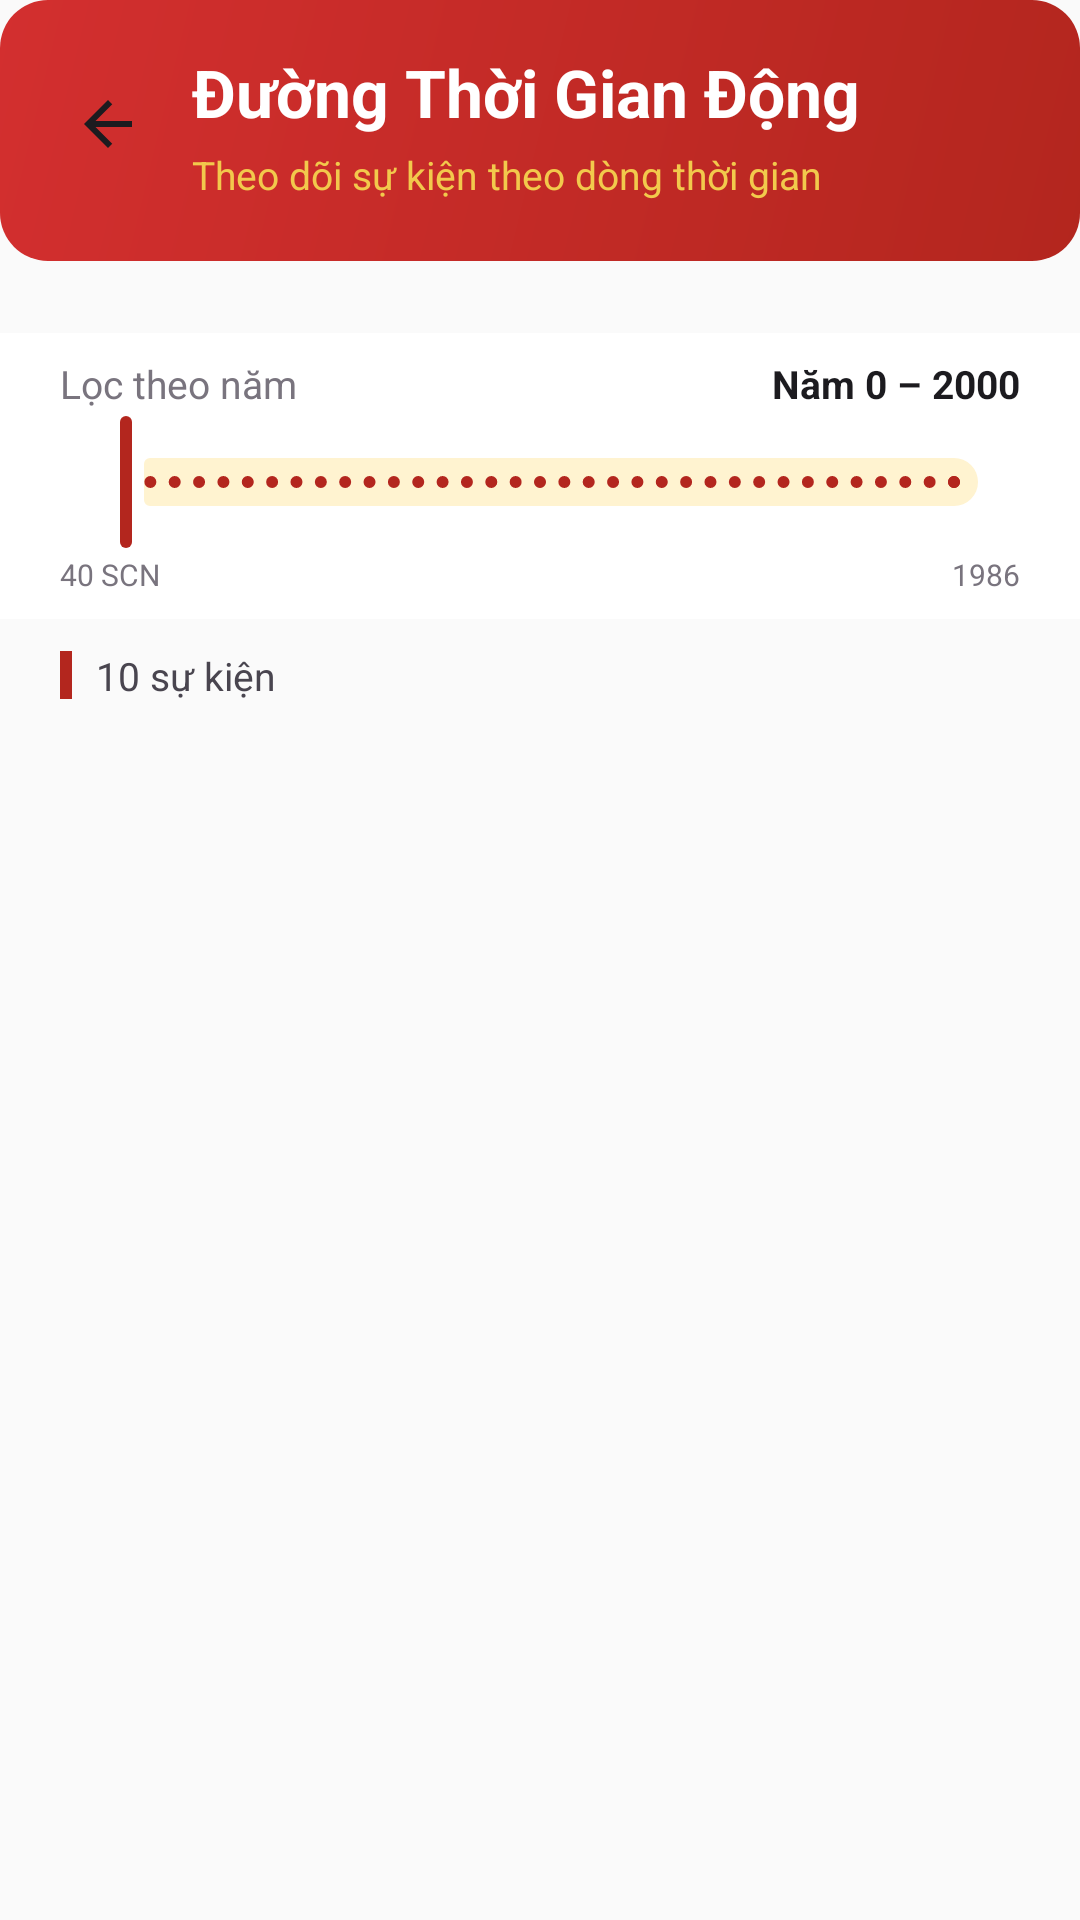

Named icons in this screenshot (1080 × 1920) and their bounding boxes, (x1, y1, x2, y2):
Quay lại: (84, 100, 132, 148)
